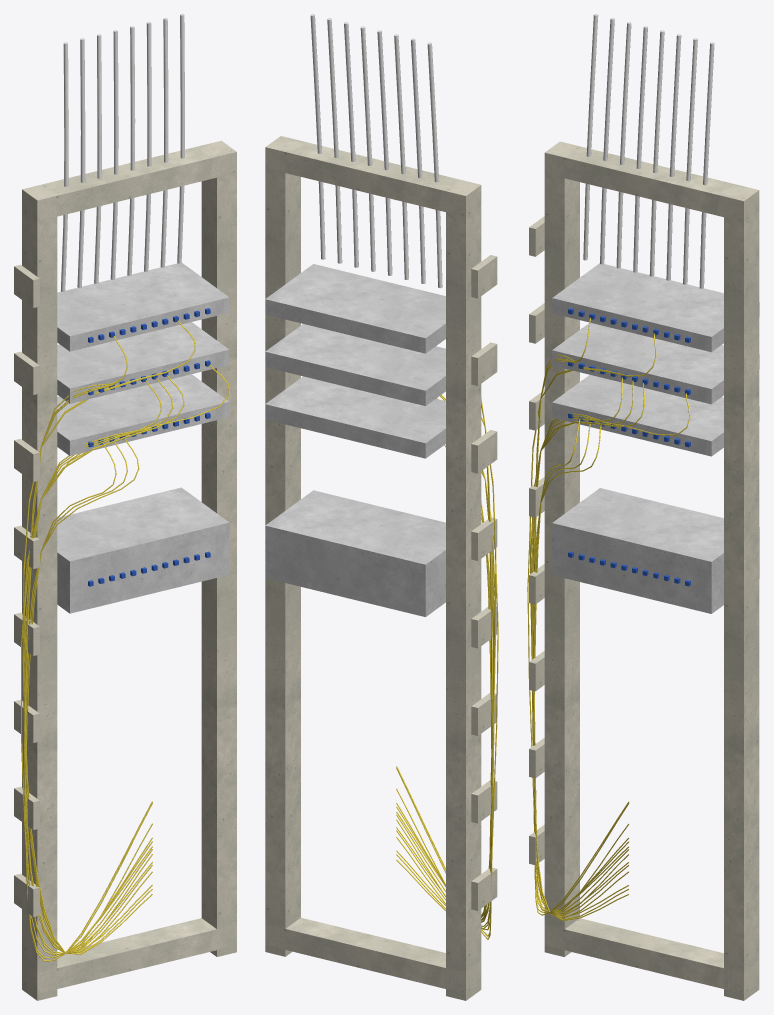
File: C15b_Open_Frame_Rack_ODF.fbx
3 renders of one model, left to right at view 1: azimuth 30°, elevation 25°; view 2: azimuth 150°, elevation 25°; view 3: azimuth 330°, elevation 25°, orthographic.
Visible parts, largest first — view 1: Upright.001, Upright, Cables_Bundle, Patch_Panel_4, Patch_Panel_1, Patch_Panel_2, Patch_Panel_3, Cross.001, Cross, Mgr_Ring_7, Mgr_Ring_5, Mgr_Ring_6 (+5 smaller); view 2: Upright, Upright.001, Patch_Panel_4, Cables_Bundle, Patch_Panel_1, Patch_Panel_3, Patch_Panel_2, Cross.001, Cross, Mgr_Ring_5, Mgr_Ring_6, Mgr_Ring_7 (+5 smaller); view 3: Upright.001, Upright, Cables_Bundle, Patch_Panel_4, Patch_Panel_1, Patch_Panel_2, Patch_Panel_3, Cross.001, Cross, Mgr_Ring_1, Mgr_Ring_2, Mgr_Ring_6 (+2 smaller).
Boxes of the visible parts, x1=… form: Upright.001: x1=201, y1=150, x2=236, y2=956; Upright: x1=22, y1=189, x2=57, y2=1000; Cables_Bundle: x1=21, y1=14, x2=229, y2=961; Patch_Panel_4: x1=57, y1=487, x2=229, y2=613; Patch_Panel_1: x1=57, y1=263, x2=229, y2=351; Patch_Panel_2: x1=57, y1=322, x2=229, y2=403; Patch_Panel_3: x1=57, y1=374, x2=229, y2=455; Cross.001: x1=22, y1=140, x2=236, y2=221; Cross: x1=22, y1=918, x2=236, y2=993; Mgr_Ring_7: x1=14, y1=264, x2=39, y2=307; Mgr_Ring_5: x1=14, y1=438, x2=39, y2=481; Mgr_Ring_6: x1=14, y1=351, x2=39, y2=394; Upright: x1=446, y1=183, x2=481, y2=1000; Upright.001: x1=265, y1=148, x2=300, y2=956; Patch_Panel_4: x1=265, y1=490, x2=445, y2=616; Cables_Bundle: x1=310, y1=14, x2=498, y2=939; Patch_Panel_1: x1=265, y1=264, x2=445, y2=353; Patch_Panel_3: x1=265, y1=376, x2=445, y2=458; Patch_Panel_2: x1=265, y1=324, x2=445, y2=405; Cross.001: x1=265, y1=136, x2=481, y2=216; Cross: x1=265, y1=917, x2=481, y2=993; Mgr_Ring_5: x1=471, y1=430, x2=497, y2=473; Mgr_Ring_6: x1=471, y1=342, x2=497, y2=385; Mgr_Ring_7: x1=471, y1=255, x2=497, y2=298; Upright.001: x1=724, y1=193, x2=759, y2=1000; Upright: x1=544, y1=153, x2=579, y2=956; Cables_Bundle: x1=527, y1=14, x2=714, y2=920; Patch_Panel_4: x1=552, y1=488, x2=759, y2=613; Patch_Panel_1: x1=552, y1=263, x2=759, y2=352; Patch_Panel_2: x1=552, y1=322, x2=759, y2=404; Patch_Panel_3: x1=552, y1=375, x2=759, y2=456; Cross.001: x1=544, y1=141, x2=759, y2=221; Cross: x1=544, y1=918, x2=759, y2=993; Mgr_Ring_1: x1=529, y1=738, x2=544, y2=778; Mgr_Ring_2: x1=529, y1=651, x2=544, y2=691; Mgr_Ring_6: x1=529, y1=303, x2=544, y2=343.
Size of the model in its own units: 0.6507 by 2.7 by 0.3166.
6 materials, 3 textured.
